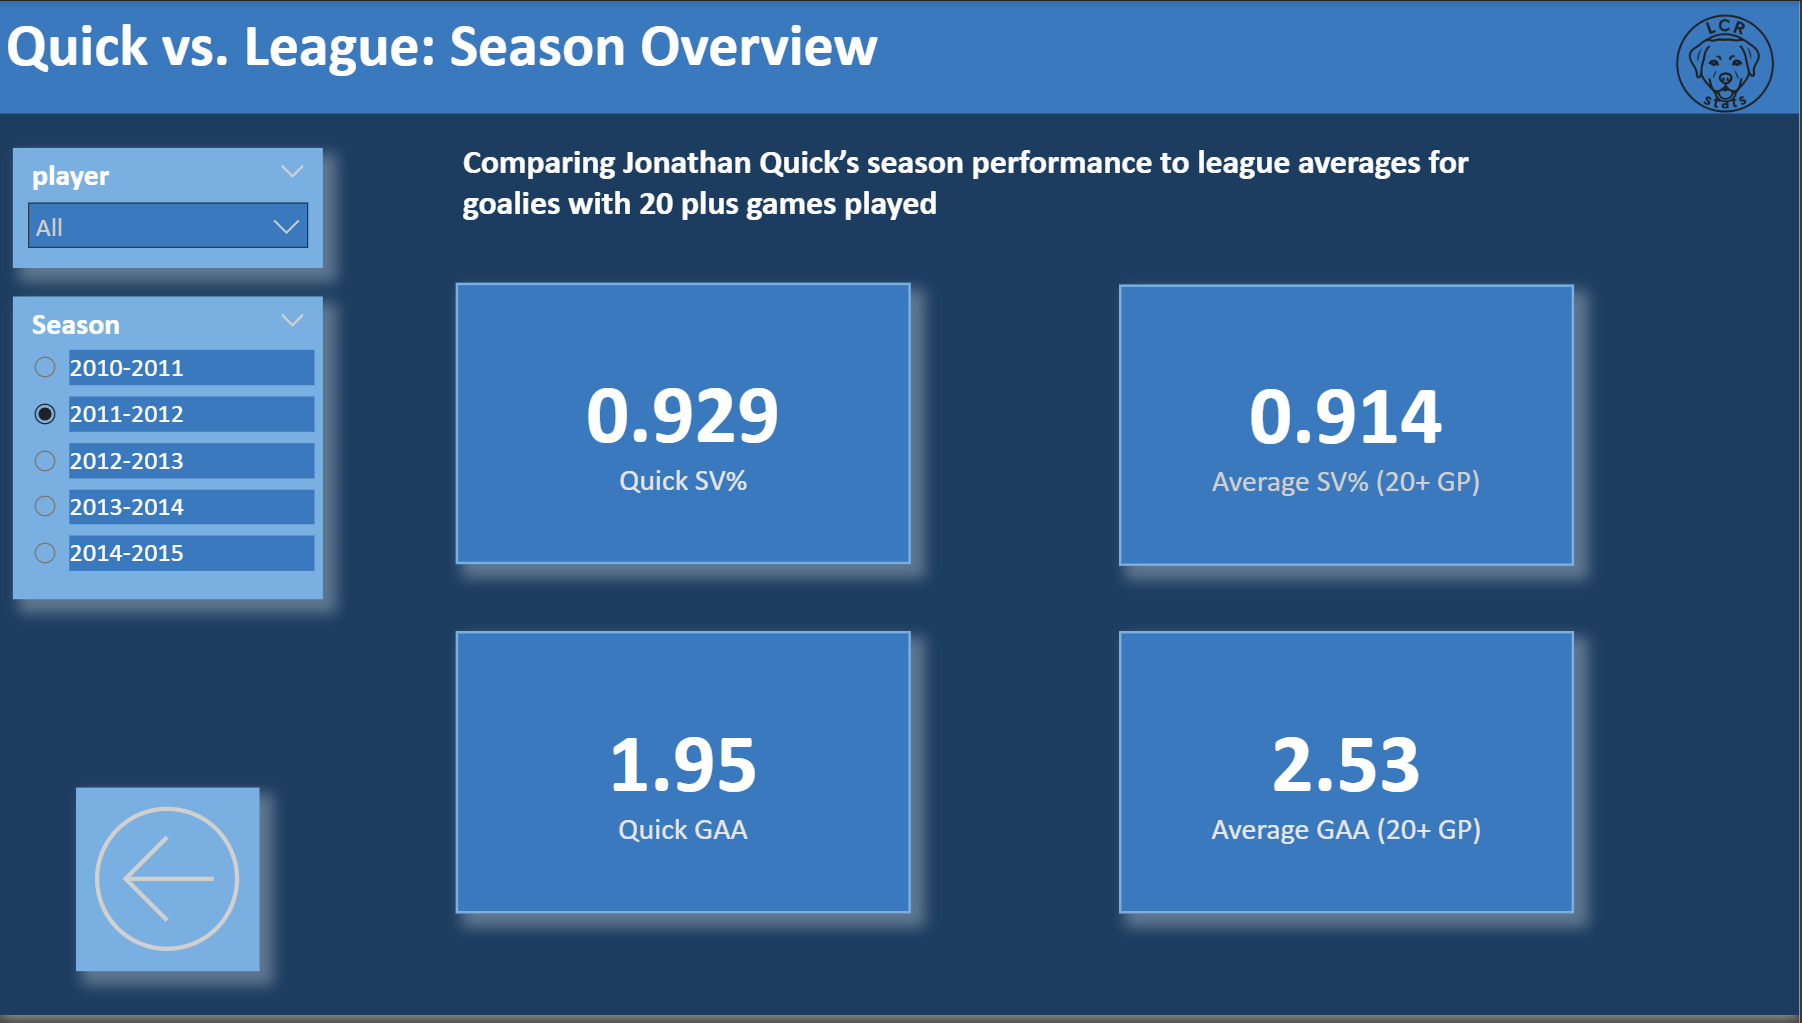

The page's visual inventory and layout, read from the dashboard file:
{"tool":"powerbi","page":{"name":"KPI Page","canvas":[1280,720],"ordinal":1},"visuals":[{"type":"textbox","box":[0,0,1280,80],"z":0},{"type":"group","id":"g1","title":"Group 1","box":[325,200,795,448.3],"z":1000},{"type":"textbox","box":[325,95,795,78.3],"z":2000},{"type":"card","fields":{"Values":["nhl goalies 2010-2014.Quick SV% (30+ GP)"]},"box":[325,200,323.5,200.3],"z":3000,"group":"g1"},{"type":"actionButton","box":[55,558.3,130,130],"z":3000},{"type":"card","fields":{"Values":["nhl goalies 2010-2014.Average SV% (30+ GP)"]},"box":[796.5,201.8,323.2,199.9],"z":4000,"group":"g1"},{"type":"slicer","fields":{"Values":["nhl goalies 2010-2014.Season"]},"box":[10,210,220,215],"z":4000},{"type":"slicer","fields":{"Values":["nhl goalies 2010-2014.player"]},"box":[10,105,220,85],"z":5000},{"type":"card","fields":{"Values":["nhl goalies 2010-2014.Quick GAA (20+ GP)"]},"box":[325,448.1,323.5,200.3],"z":5000,"group":"g1"},{"type":"image","box":[1174.7,0,105.3,90],"z":6000},{"type":"card","fields":{"Values":["nhl goalies 2010-2014.Average GAA (20+ GP)"]},"box":[796.5,448.1,323.5,200.3],"z":6000,"group":"g1"}]}

Visuals, with their boxes in screenshot pixels (x1, y1, x2, y2), scaled from the page's 1280x720 canvas onto the 1802x1023 screenshot:
textbox: left=0, top=0, right=1801, bottom=114
"Group 1" group: left=458, top=284, right=1577, bottom=921
textbox: left=458, top=135, right=1577, bottom=246
card - nhl goalies 2010-2014.Quick SV% (30+ GP): left=458, top=284, right=913, bottom=569
actionButton: left=77, top=793, right=260, bottom=978
card - nhl goalies 2010-2014.Average SV% (30+ GP): left=1121, top=287, right=1576, bottom=571
slicer - nhl goalies 2010-2014.Season: left=14, top=298, right=324, bottom=604
slicer - nhl goalies 2010-2014.player: left=14, top=149, right=324, bottom=270
card - nhl goalies 2010-2014.Quick GAA (20+ GP): left=458, top=637, right=913, bottom=921
image: left=1654, top=0, right=1801, bottom=128
card - nhl goalies 2010-2014.Average GAA (20+ GP): left=1121, top=637, right=1577, bottom=921
